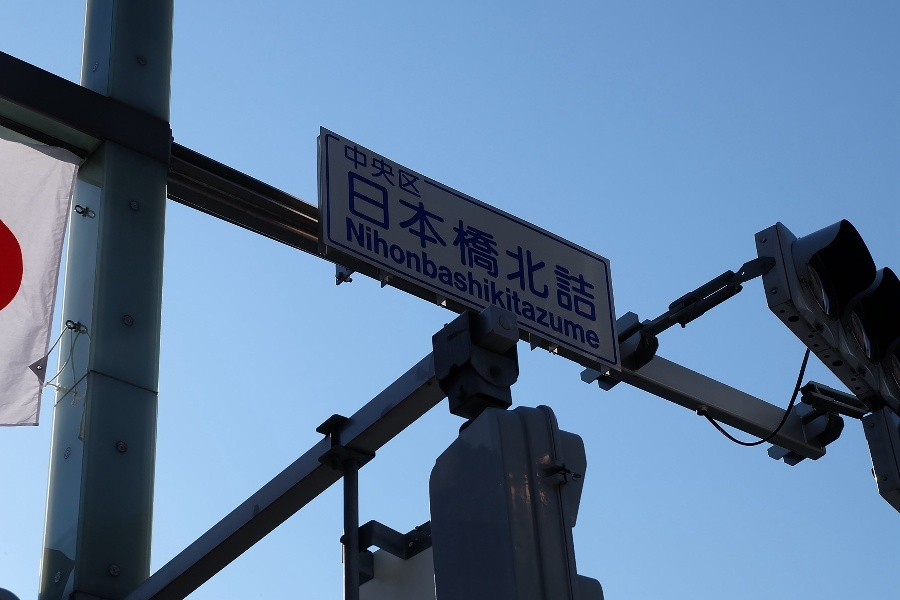text: (353, 171, 368, 325), (369, 171, 384, 325), (385, 171, 400, 325), (401, 171, 416, 325), (417, 171, 432, 325), (433, 171, 448, 325), (449, 171, 464, 325), (465, 171, 480, 325), (481, 171, 496, 325), (497, 171, 512, 325), (513, 171, 528, 325), (529, 171, 544, 325), (545, 171, 560, 325), (561, 171, 576, 325), (577, 171, 592, 325), (353, 216, 368, 353), (369, 216, 384, 353), (385, 216, 400, 353), (401, 216, 416, 353), (417, 216, 432, 353), (433, 216, 448, 353), (449, 216, 464, 353), (465, 216, 480, 353), (481, 216, 496, 353), (497, 216, 512, 353), (513, 216, 528, 353), (529, 216, 544, 353), (545, 216, 560, 353), (561, 216, 576, 353), (577, 216, 592, 353), (593, 216, 601, 353), (353, 140, 368, 199), (369, 140, 384, 199), (385, 140, 400, 199), (401, 140, 416, 199), (346, 216, 352, 353), (348, 171, 352, 325), (593, 171, 597, 325), (345, 140, 352, 199), (417, 140, 421, 199)
